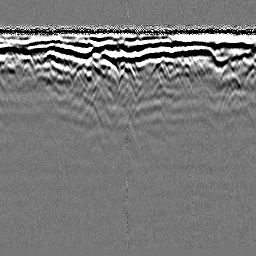cavity: (120, 61, 135, 84)
